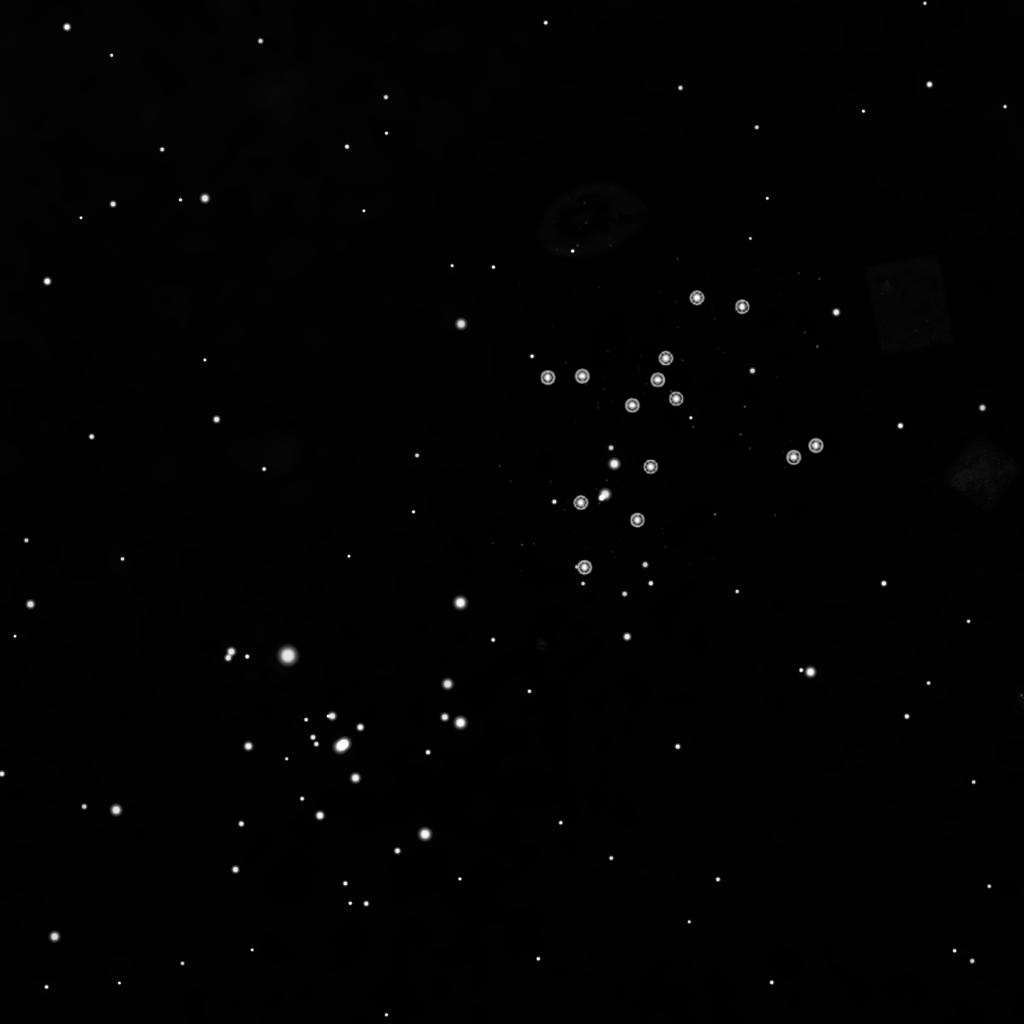canis_major: (621, 283, 757, 421)
